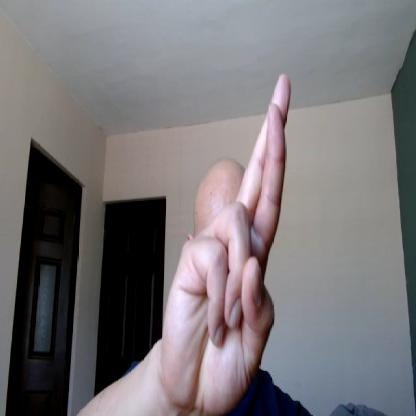R: (162, 72, 291, 410)
